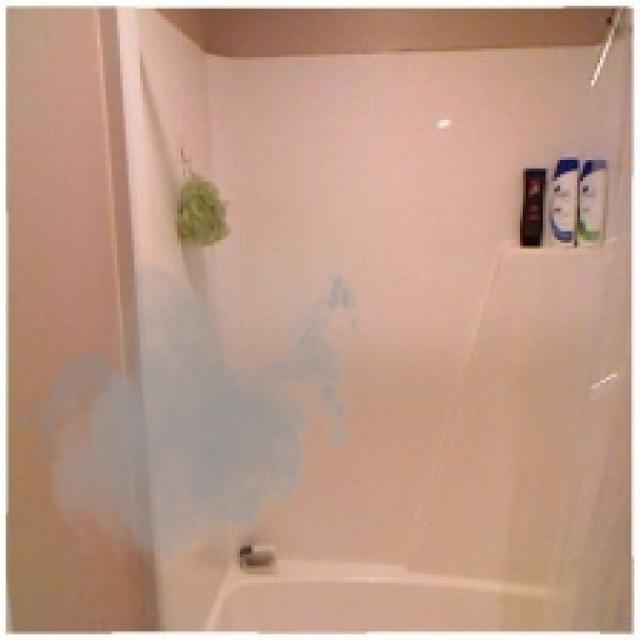smoke: (17, 208, 372, 586)
